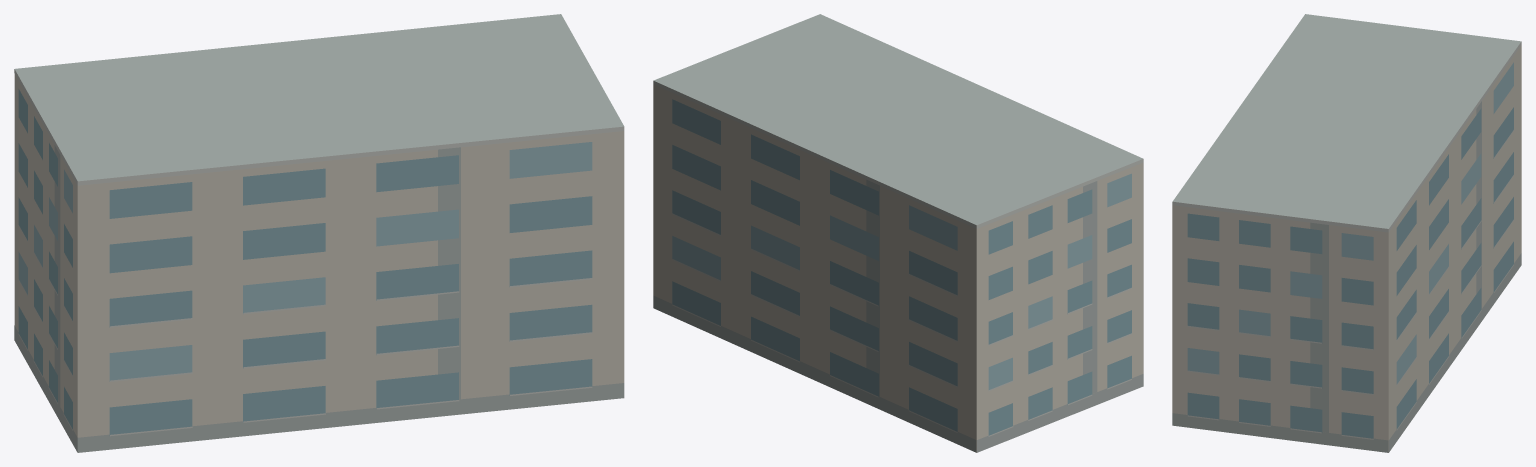
File: residential-7e84ddf5-a9bf-45a2-875f-83d8d6b00af2.glb
3 views of the same model, side by side, from view 1: azimuth 30°, elevation 25°; view 2: azimuth 150°, elevation 25°; view 3: azimuth 270°, elevation 25° (orthographic). The views are drawn at different scales.
Parts seen in each view (by area): view 1: residential-7e84ddf5-a9bf-45a2-875f-83d8d6b00af2.tmp; view 2: residential-7e84ddf5-a9bf-45a2-875f-83d8d6b00af2.tmp; view 3: residential-7e84ddf5-a9bf-45a2-875f-83d8d6b00af2.tmp.
Part boxes in pixels (bbox=[...]): residential-7e84ddf5-a9bf-45a2-875f-83d8d6b00af2.tmp: bbox=[14, 14, 624, 452]; residential-7e84ddf5-a9bf-45a2-875f-83d8d6b00af2.tmp: bbox=[653, 14, 1143, 452]; residential-7e84ddf5-a9bf-45a2-875f-83d8d6b00af2.tmp: bbox=[1172, 14, 1521, 452].
Bounding box in the file's own units: 31.41 × 15.25 × 21.55.
